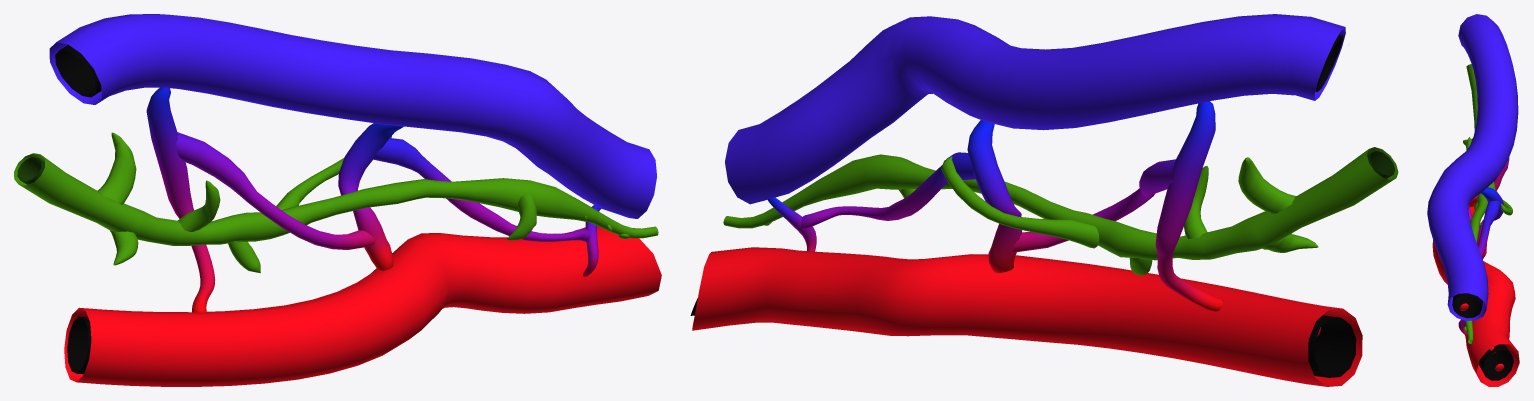
File: sangelesilimfa.glb
The picture shows the model from 3 angles, left to right: view 1: azimuth 30°, elevation 25°; view 2: azimuth 150°, elevation 25°; view 3: azimuth 270°, elevation 25°; orthographic projection. The views are drawn at different scales.
Parts seen in each view (by area): view 1: Top Vein, Bottom Vein, Limfa, Connecting Veins, Limfa Extras; view 2: Bottom Vein, Top Vein, Limfa, Connecting Veins, Limfa Extras; view 3: Top Vein, Bottom Vein, Connecting Veins, Limfa, Limfa Extras.
Part boxes in pixels (<box>): Top Vein: <box>49,14,656,218</box>; Bottom Vein: <box>64,226,661,386</box>; Limfa: <box>14,153,658,245</box>; Connecting Veins: <box>146,87,600,312</box>; Limfa Extras: <box>97,132,536,273</box>; Bottom Vein: <box>690,247,1362,386</box>; Top Vein: <box>725,14,1345,204</box>; Limfa: <box>723,147,1398,260</box>; Connecting Veins: <box>767,101,1224,311</box>; Limfa Extras: <box>896,156,1318,275</box>; Top Vein: <box>1427,14,1518,320</box>; Bottom Vein: <box>1432,195,1519,386</box>; Connecting Veins: <box>1458,157,1509,335</box>; Limfa: <box>1465,64,1495,343</box>; Limfa Extras: <box>1463,117,1512,215</box>.
Size of the model in its own units: 5.15 by 3.14 by 1.19.
Materials: 6 (1 with a texture image).
